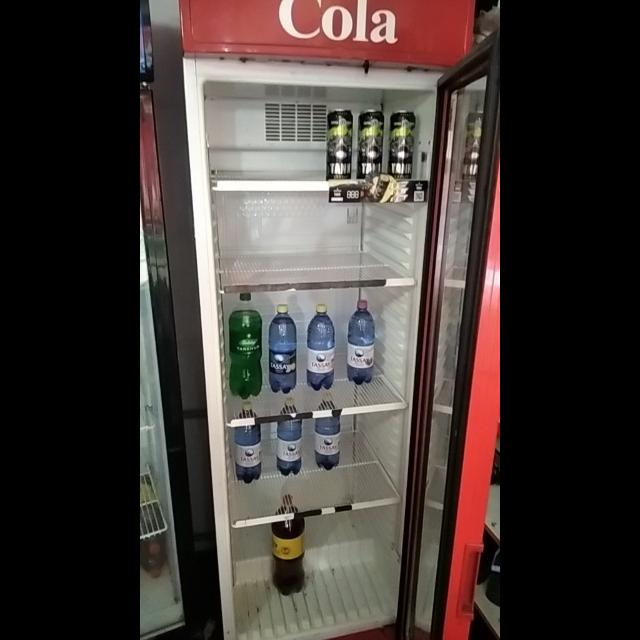Cooling-Display: (179, 1, 475, 640)
